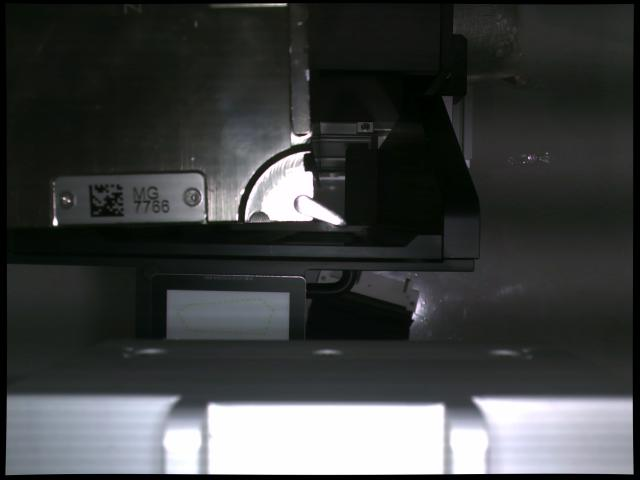jig_latch: (294, 195, 346, 226)
